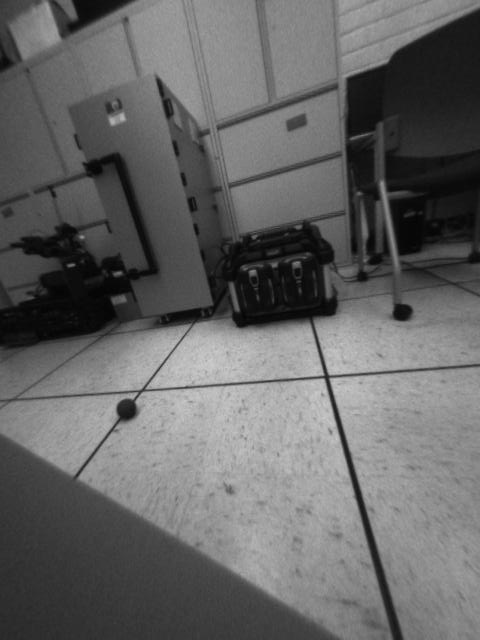dogtoy: (108, 390, 145, 425)
